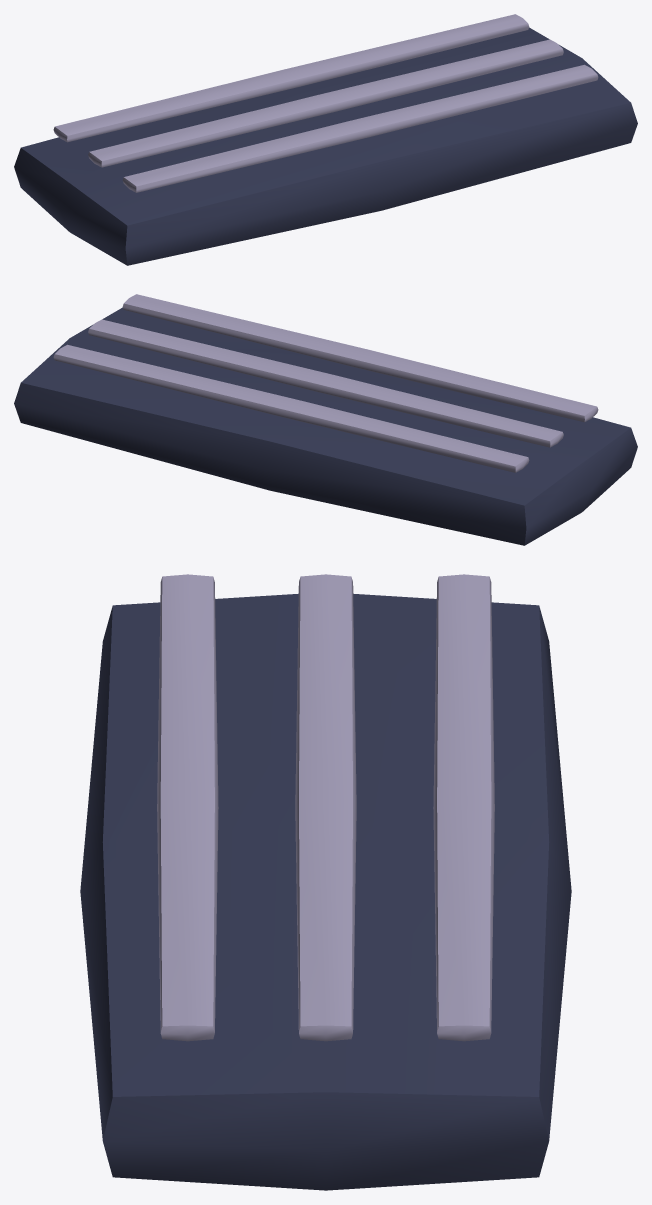
Rendered from keyboard-compact.glb.
The picture shows the model from 3 angles, top to bottom: view 1: azimuth 30°, elevation 25°; view 2: azimuth 150°, elevation 25°; view 3: azimuth 270°, elevation 25°; orthographic projection. The views are drawn at different scales.
Parts seen in each view (by area): view 1: part (×4); view 2: part (×4); view 3: part (×4).
Part boxes in pixels (x1,y1,x2,y2): part (×4): (14, 14, 637, 265); part (×4): (14, 294, 637, 545); part (×4): (80, 574, 571, 1190).
Bounding box in the file's own units: 0.4 × 0.059 × 0.16.
Materials: 1 (1 with a texture image).
